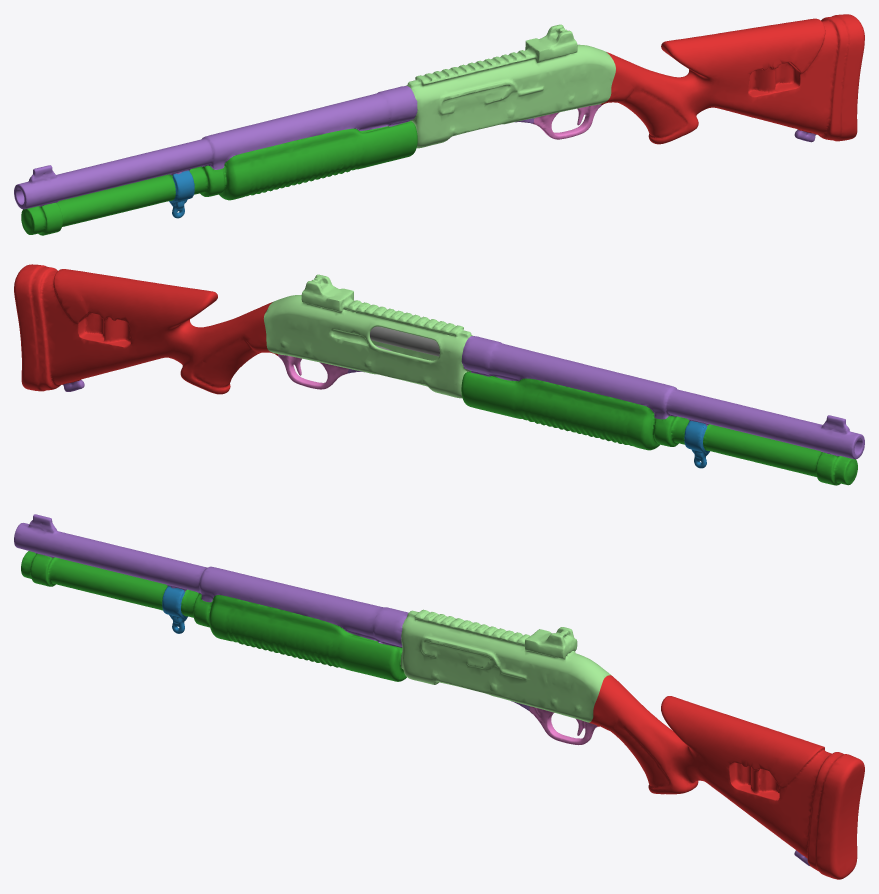
File: tactical-shotgun.glb
3 views of the same model, one above another, from view 1: azimuth 30°, elevation 25°; view 2: azimuth 150°, elevation 25°; view 3: azimuth 330°, elevation 25° (orthographic).
Visible parts, largest first — view 1: model_part9, model_part10, model_part7, model_part8, model_part5, model_part4, model_part3; view 2: model_part9, model_part10, model_part7, model_part8, model_part5, model_part6, model_part4, model_part3; view 3: model_part9, model_part10, model_part7, model_part8, model_part5, model_part4, model_part3.
Part boxes in pixels (box(x1,y1,x2,y2)): model_part9: box(600, 14, 864, 144); model_part10: box(406, 24, 615, 148); model_part7: box(14, 86, 417, 209); model_part8: box(189, 121, 417, 200); model_part5: box(21, 174, 175, 235); model_part4: box(532, 104, 601, 139); model_part3: box(169, 170, 194, 218); model_part9: box(14, 264, 277, 394); model_part10: box(263, 274, 473, 398); model_part7: box(461, 336, 864, 459); model_part8: box(461, 370, 689, 450); model_part5: box(703, 424, 857, 485); model_part6: box(370, 326, 439, 356); model_part4: box(278, 354, 348, 389); model_part3: box(684, 421, 709, 468); model_part9: box(589, 675, 864, 879); model_part10: box(400, 609, 610, 722); model_part7: box(14, 514, 408, 647); model_part8: box(181, 589, 406, 681); model_part5: box(21, 551, 167, 610); model_part4: box(529, 706, 597, 745); model_part3: box(162, 586, 187, 633).
Size of the model in its own units: 1 by 0.2017 by 0.0537.
